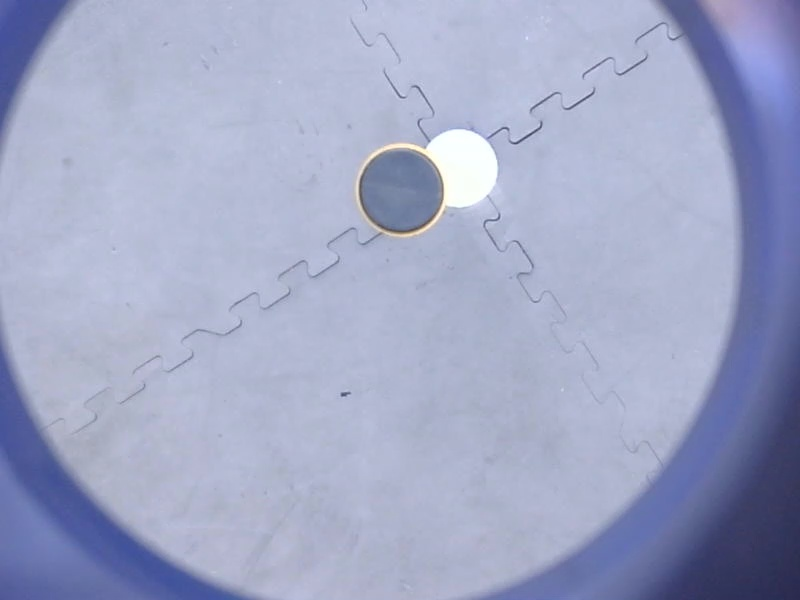tip: (350, 135, 454, 243)
